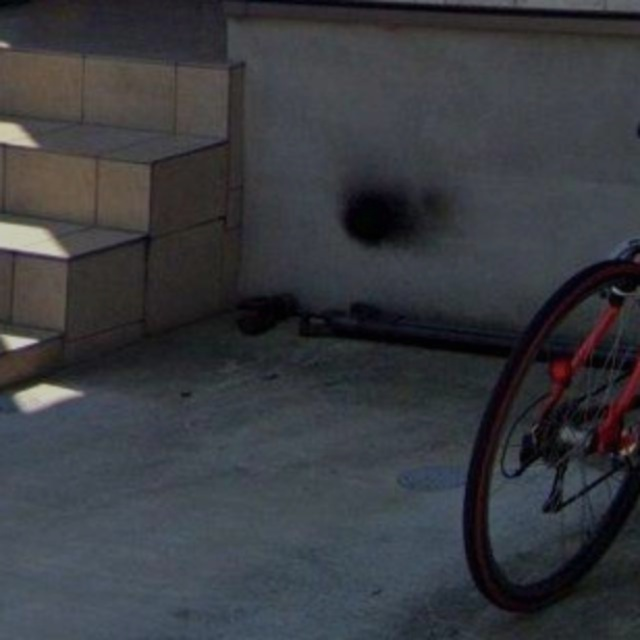bicycle: (457, 171, 640, 616)
